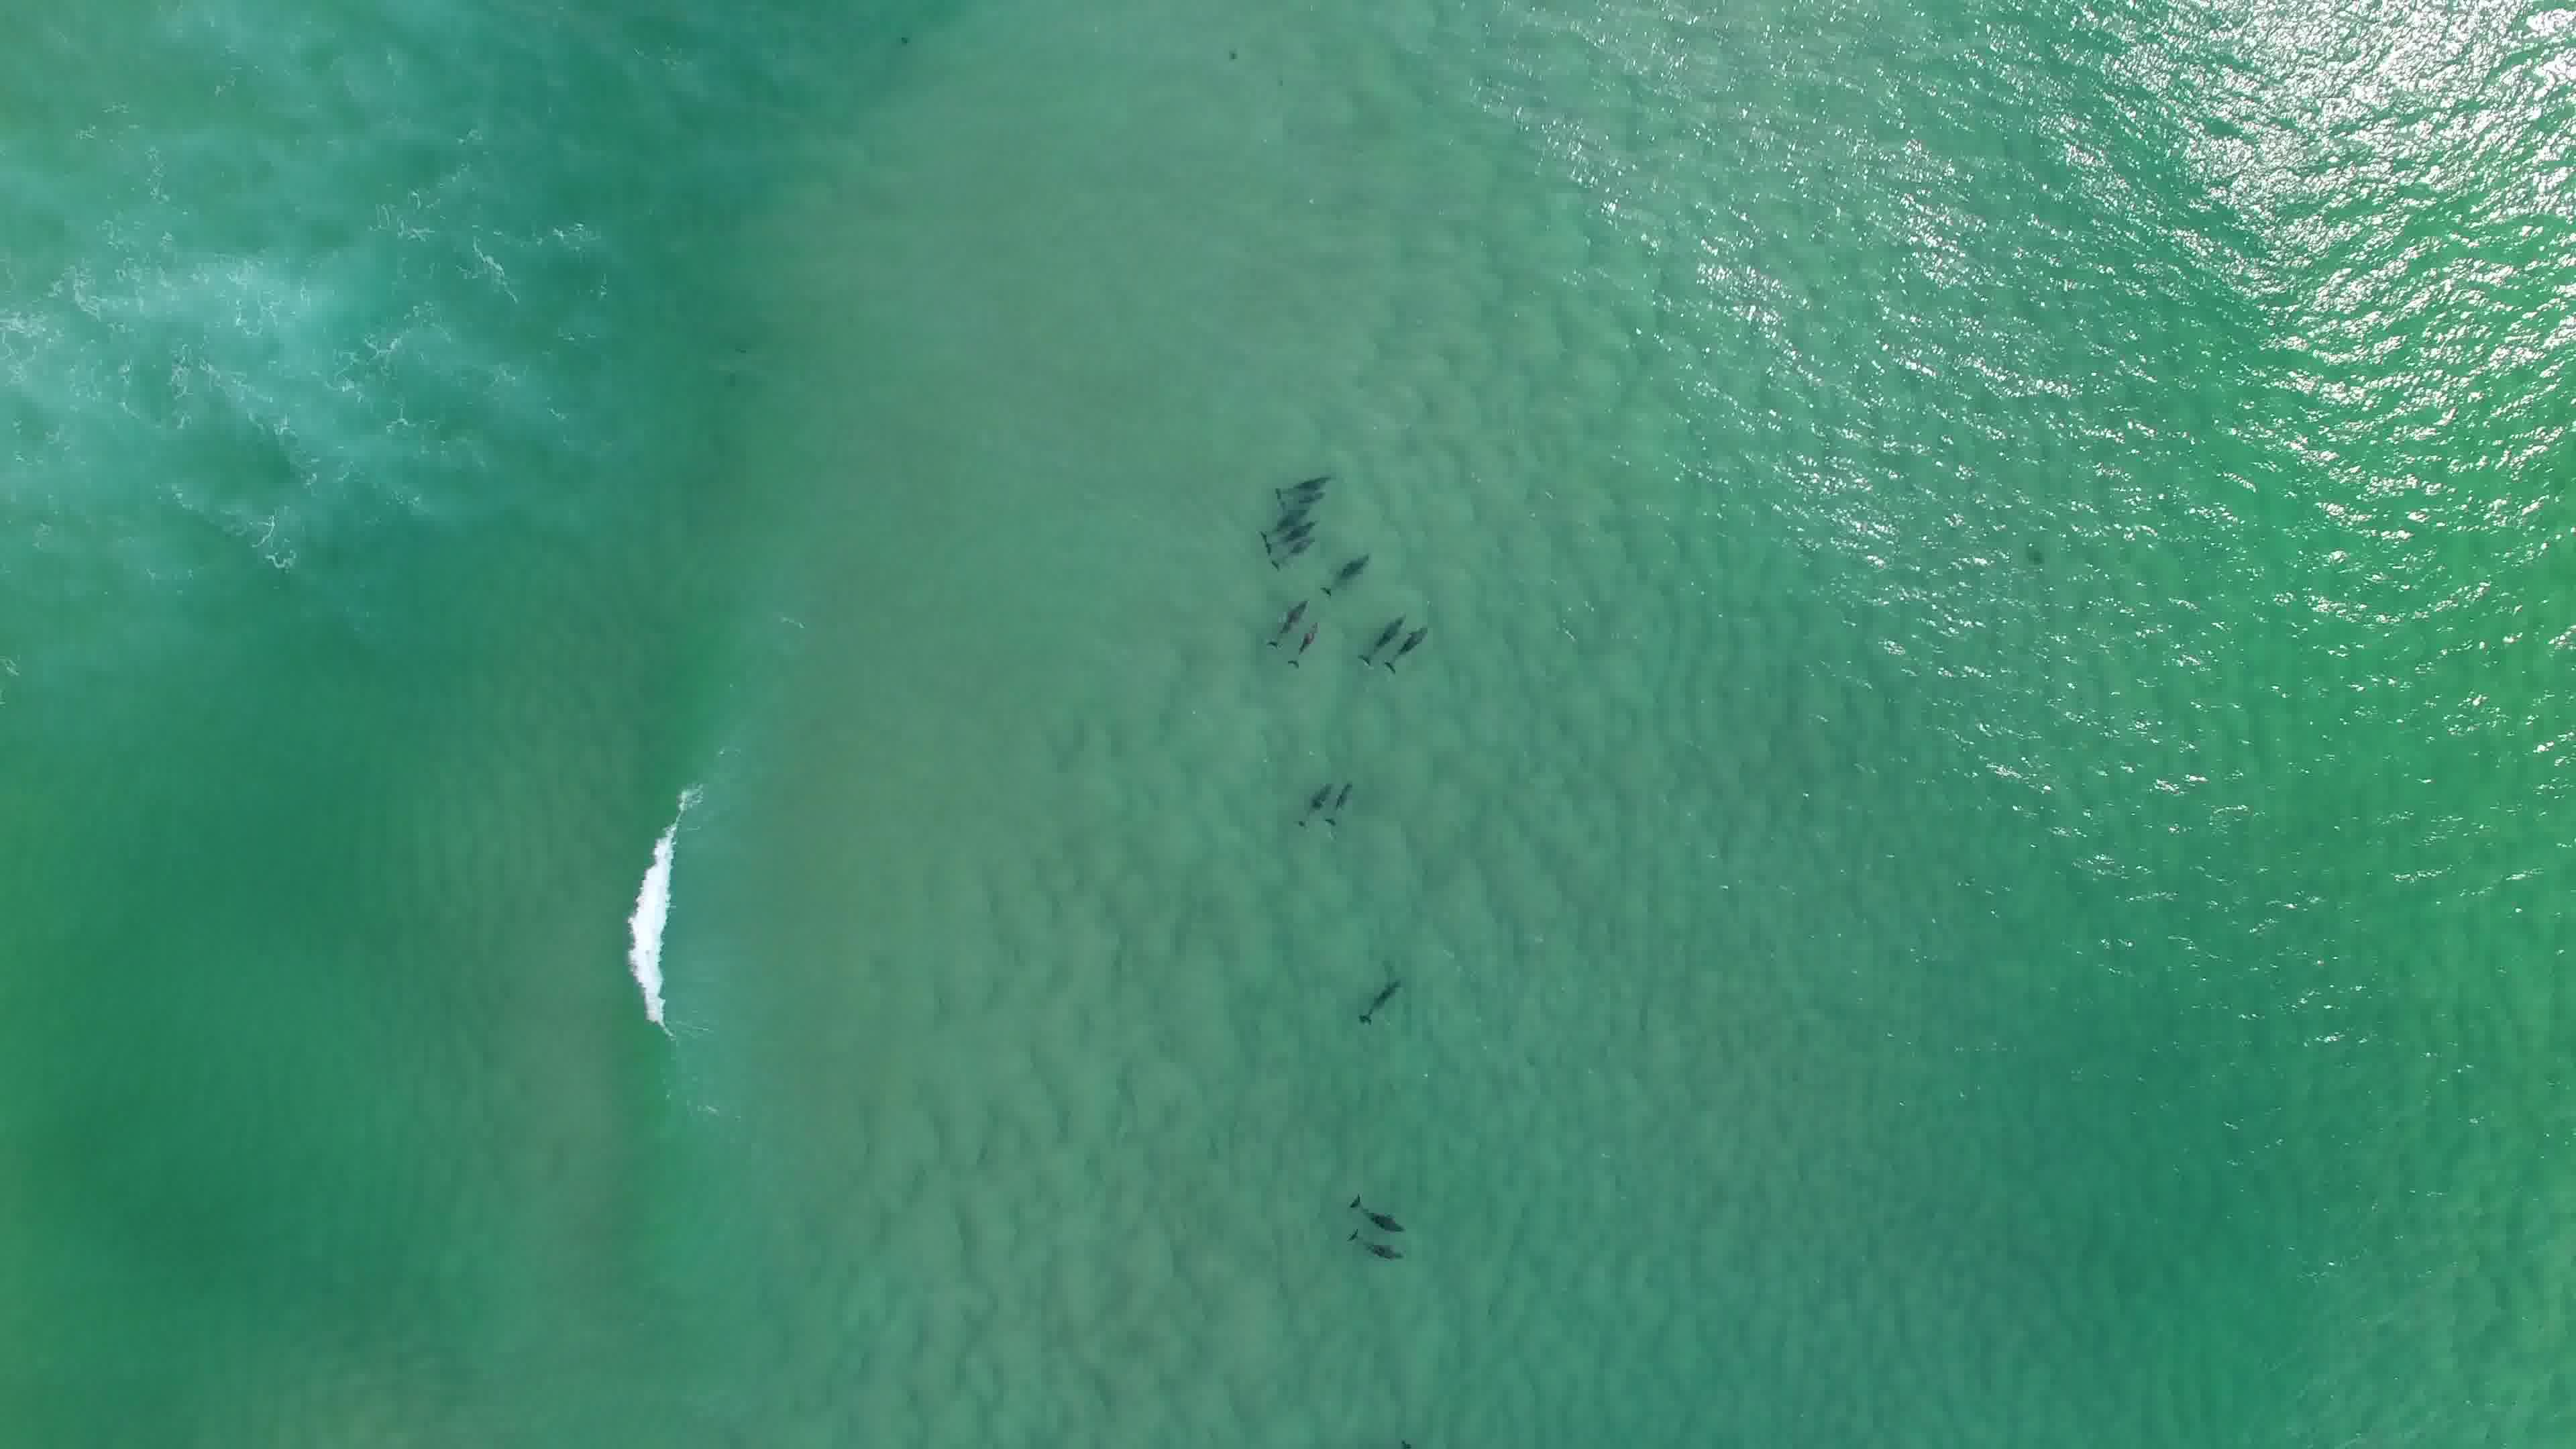dolphin: (1338, 959, 1414, 1024), (1343, 1180, 1415, 1235), (1311, 543, 1384, 598), (1341, 1221, 1415, 1274), (1350, 596, 1403, 662), (1274, 619, 1338, 669), (1292, 750, 1332, 824), (1254, 527, 1315, 577), (1382, 619, 1424, 681), (1263, 591, 1316, 640), (1249, 485, 1311, 527), (1276, 462, 1332, 499), (1263, 518, 1309, 552), (1329, 777, 1355, 823)
